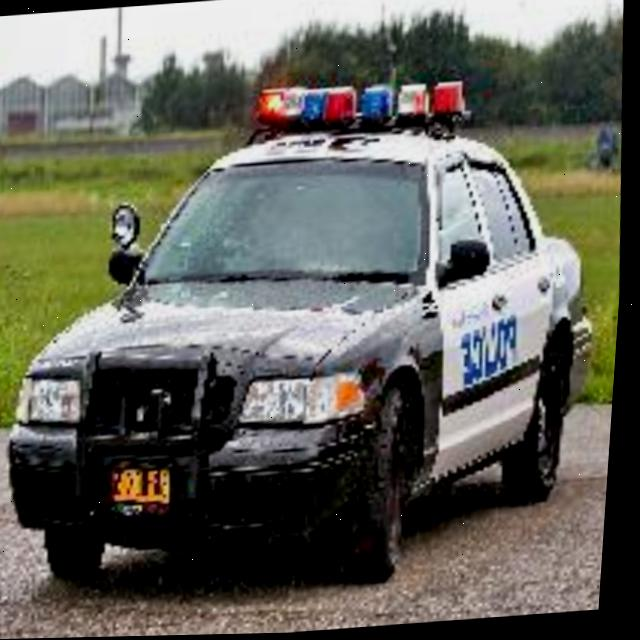emergency: (0, 61, 627, 585)
